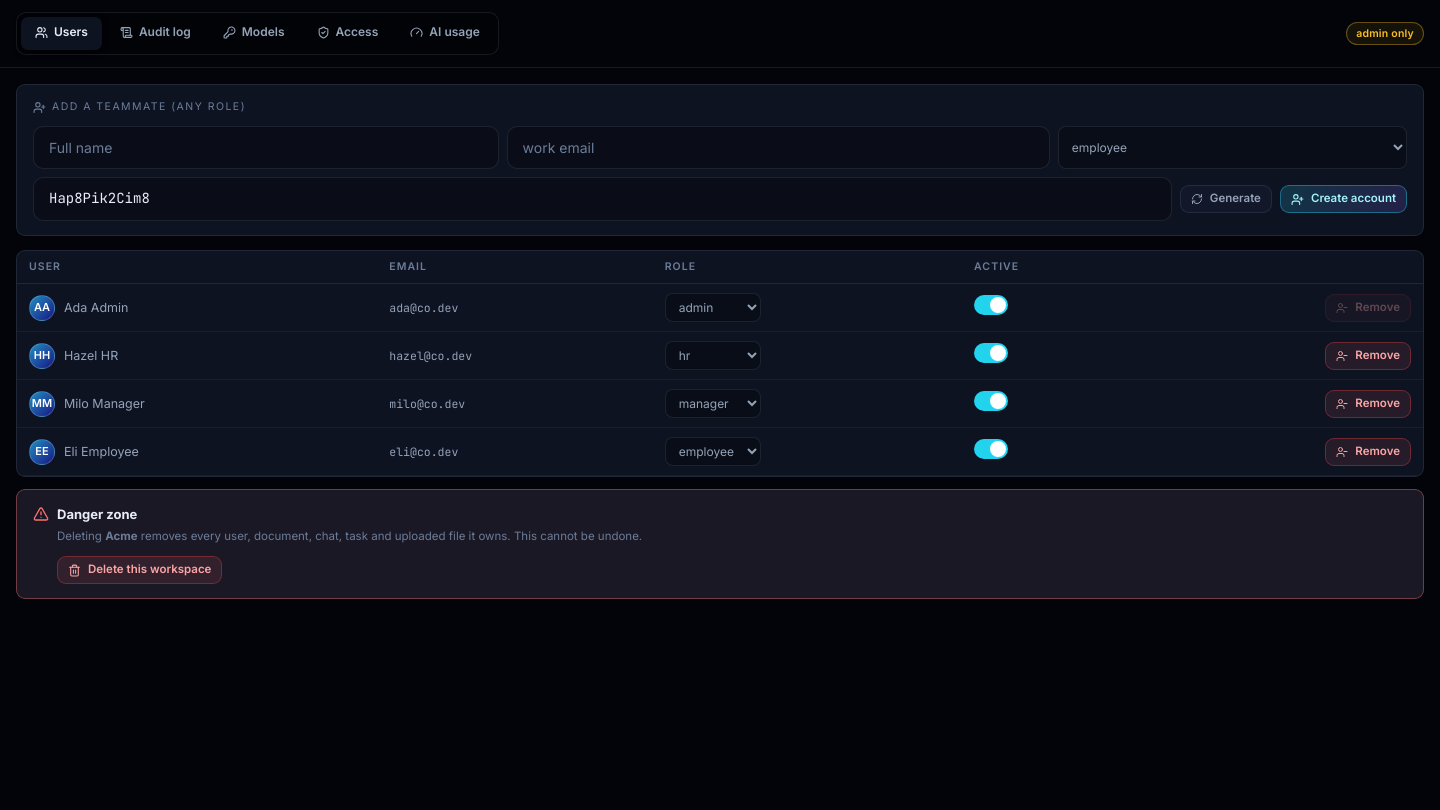
Scenario: the confirmation › can be cancelled without touching the account
Click the button "Remove" in the row of "Eli Employee" at [1368, 452], box [1325,438,1411,466]
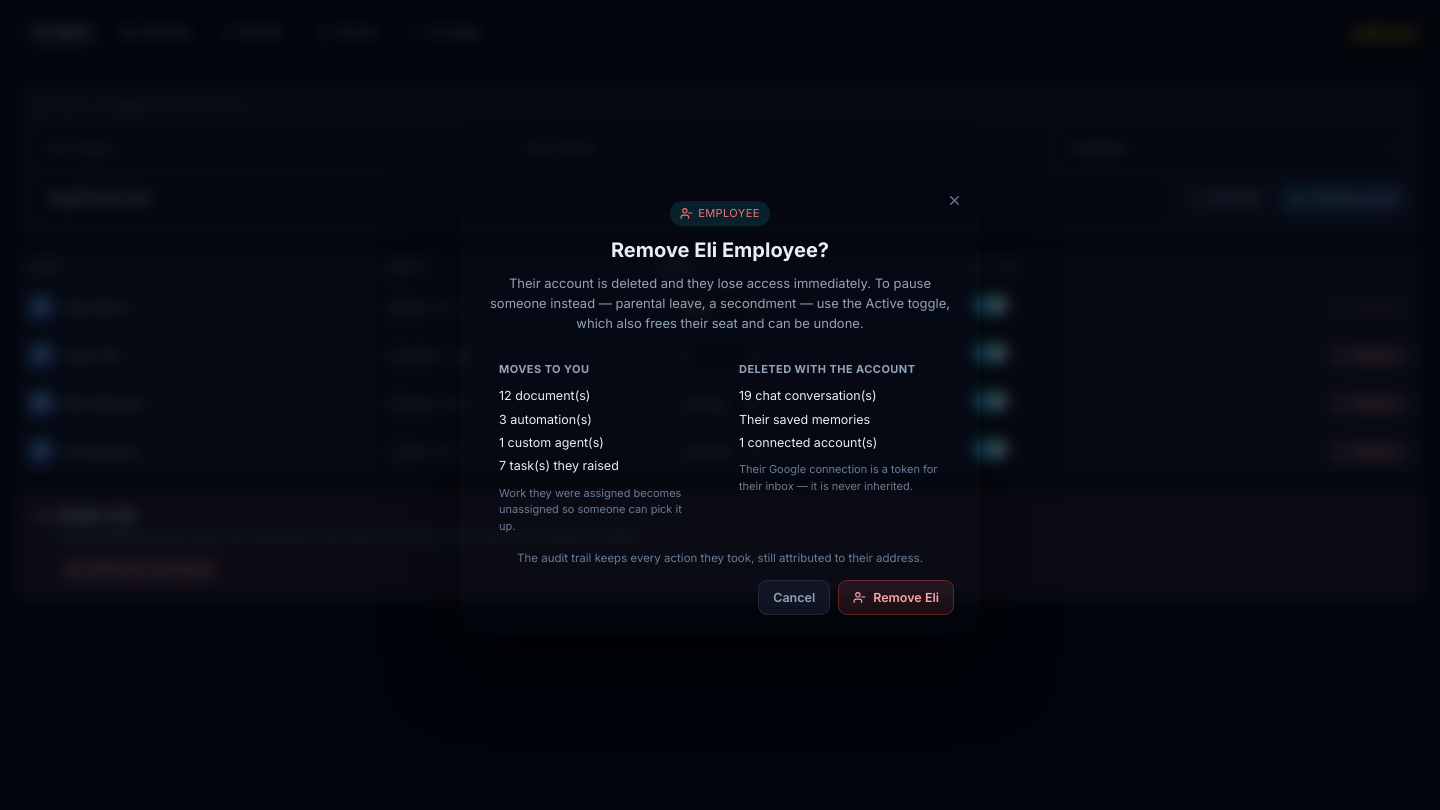
Check: the element with test id "remove-dialog" is shown, box [460,175,980,635]
Click the button "Cancel" at [794, 598], box [758,580,830,615]
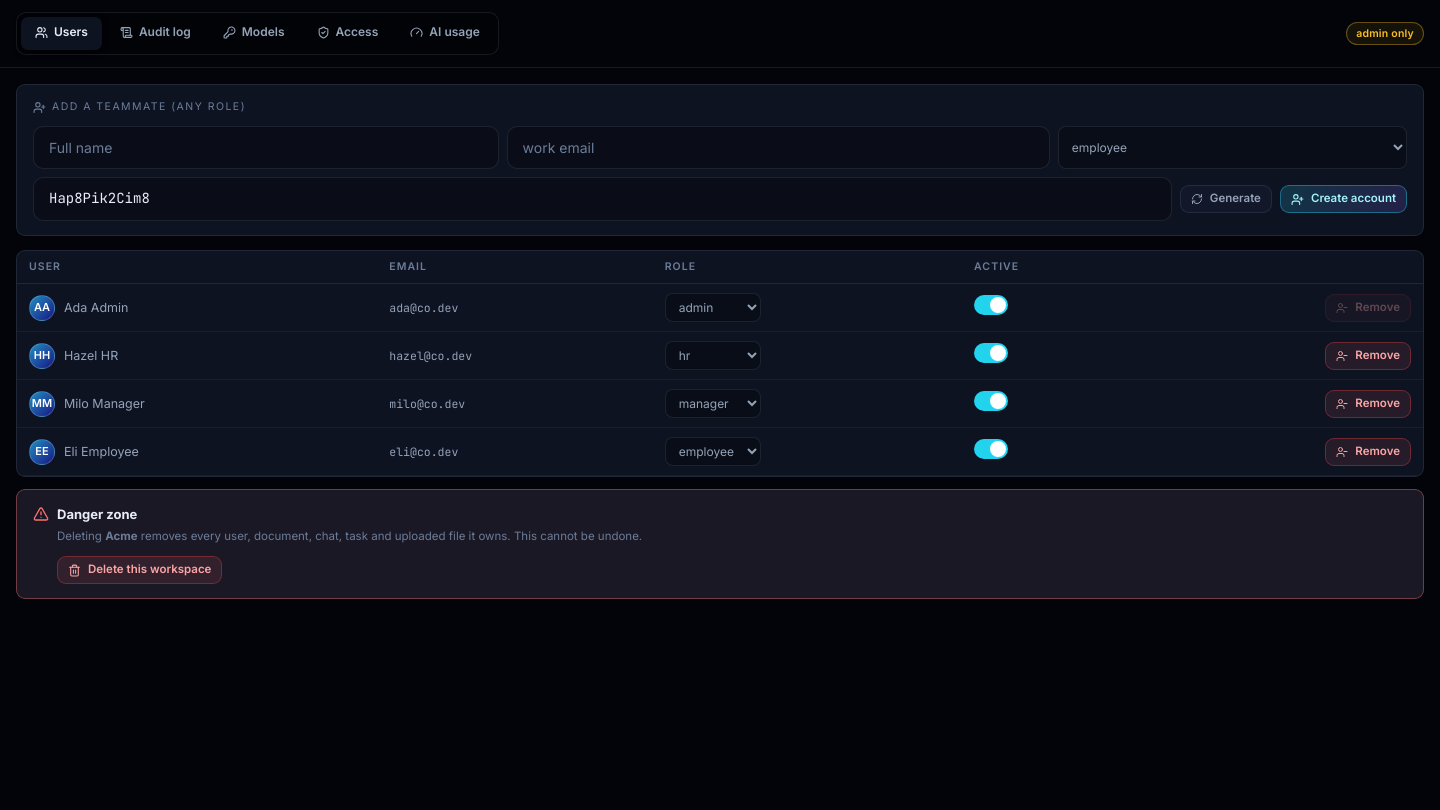
Check: the element with test id "remove-dialog" is gone
